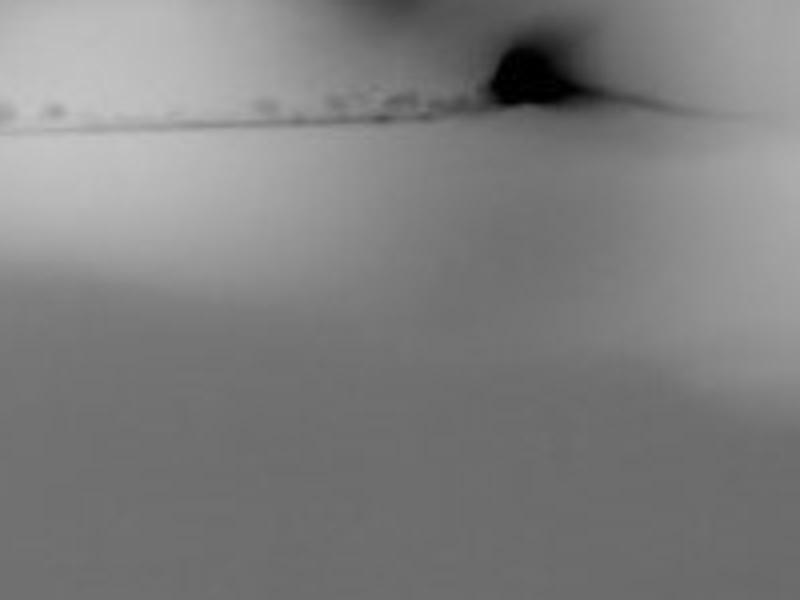defect: (488, 44, 577, 110), (381, 92, 420, 112), (323, 91, 350, 116), (250, 96, 279, 117), (41, 103, 66, 121), (1, 100, 17, 128)
